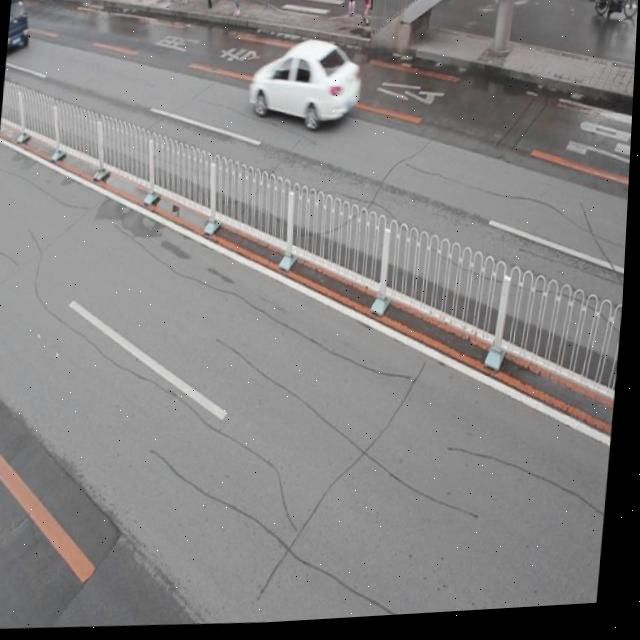car: (246, 36, 364, 133), (7, 0, 32, 57)
